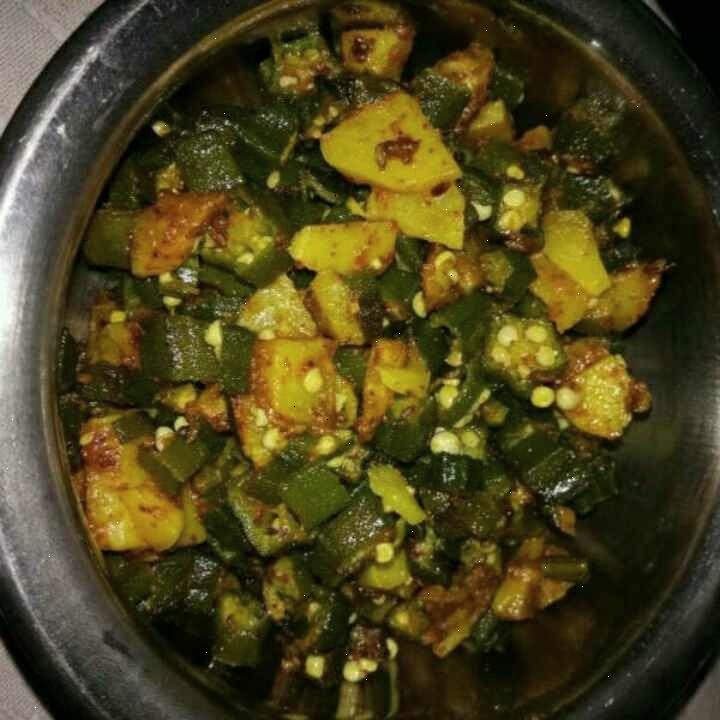bhindi: (83, 71, 666, 667)
